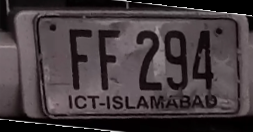2: (134, 28, 164, 92)
4: (191, 26, 217, 91)
9: (163, 27, 190, 92)
F: (66, 27, 94, 92), (96, 27, 122, 92)
